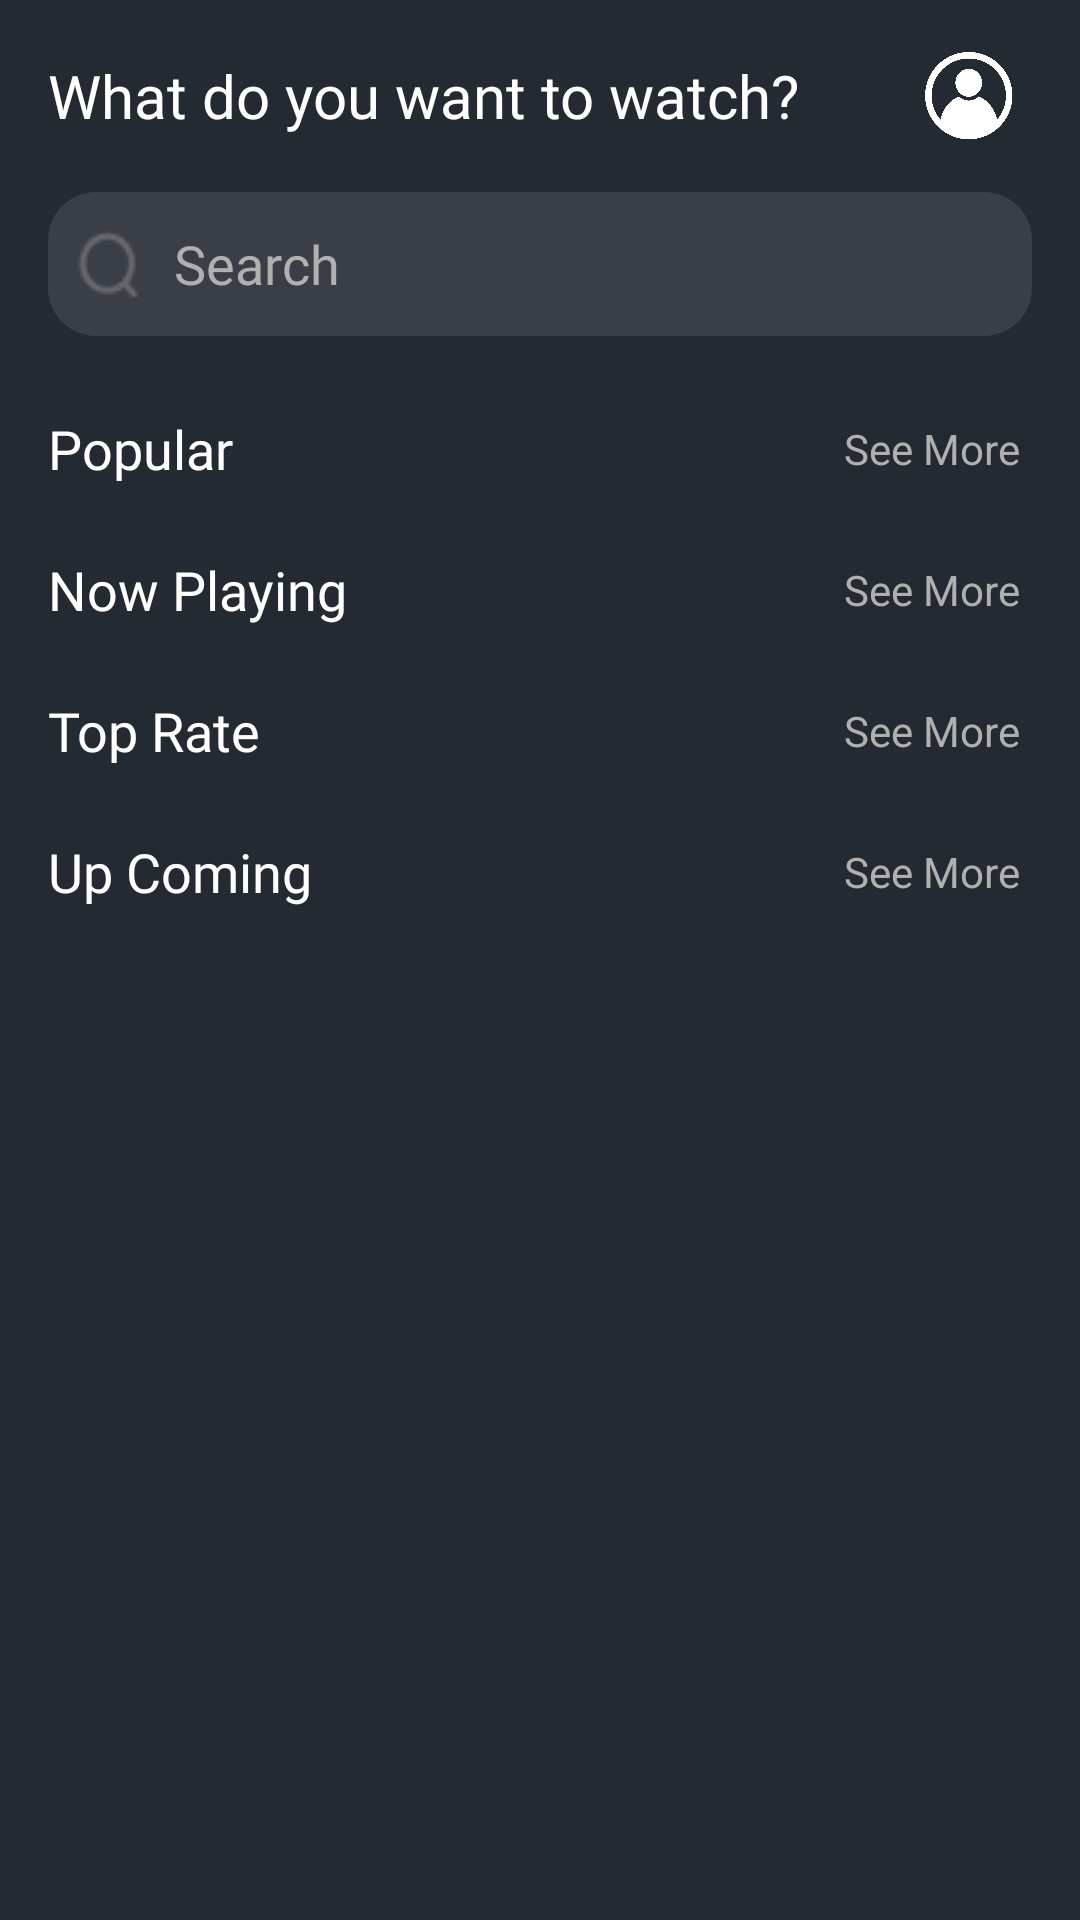

Screen size 1080 × 1920. Icon name, then its box in pixels as (x1, y1, x2, y2):
Login: (925, 52, 1013, 139)
